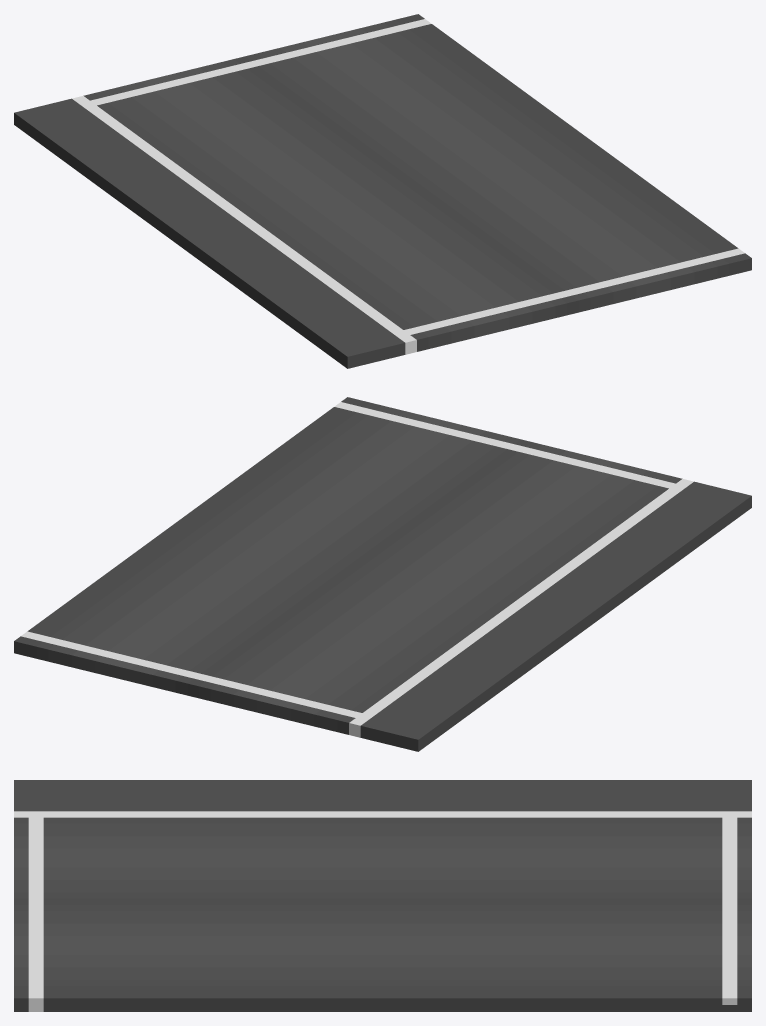
Rendered from crossing_piece-1.obj.
3 views of the same model, one above another, from view 1: azimuth 30°, elevation 25°; view 2: azimuth 150°, elevation 25°; view 3: azimuth 270°, elevation 25° (orthographic). The views are drawn at different scales.
Bounding box in the file's own units: 7 × 0.2 × 10.
Materials: 1 (1 with a texture image).
